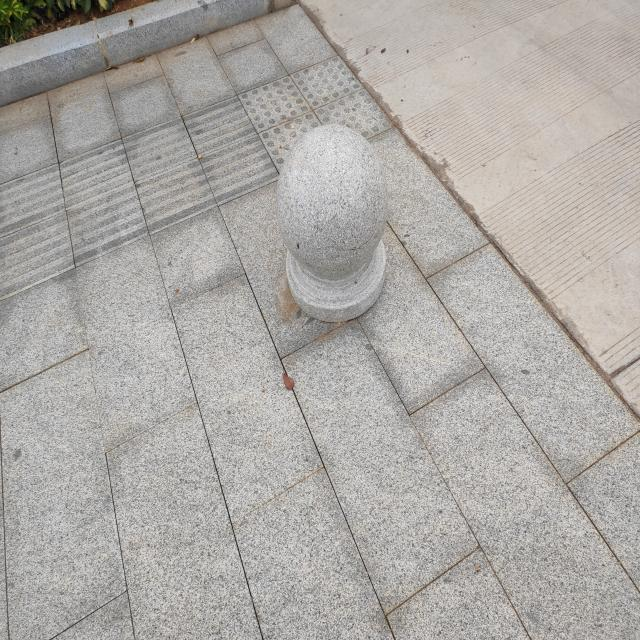spherical_roadblock: (274, 115, 388, 322)
